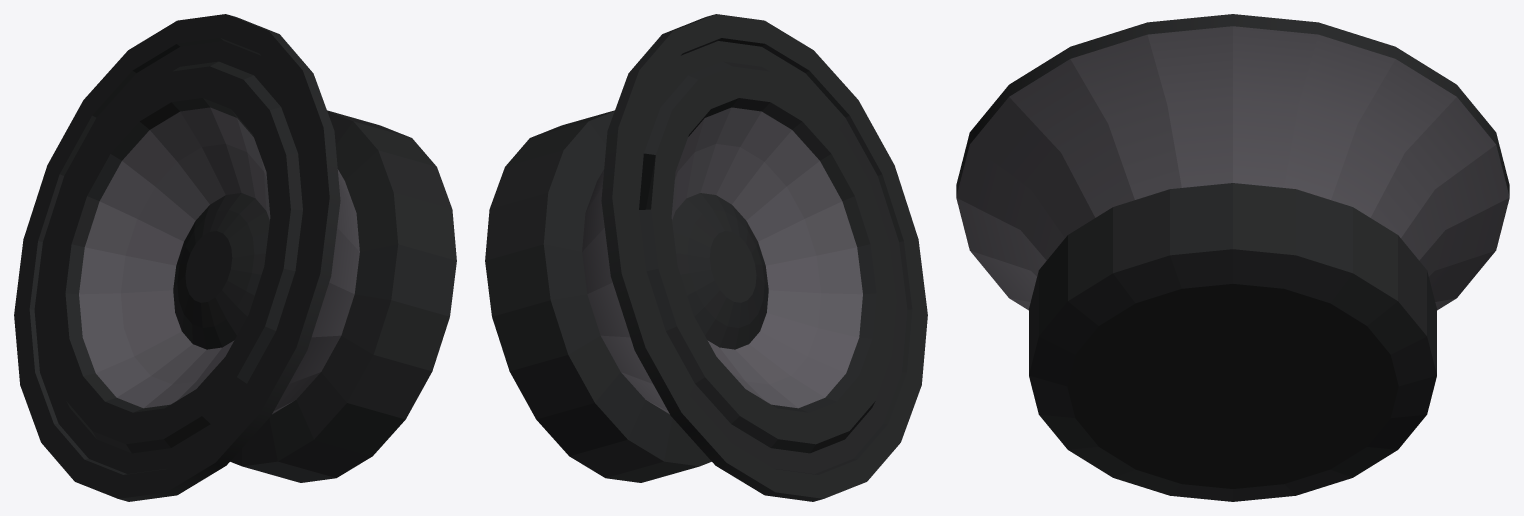
The model's file is Audio component.fbx.
3 views of the same model, side by side, from view 1: azimuth 30°, elevation 25°; view 2: azimuth 150°, elevation 25°; view 3: azimuth 270°, elevation 25° (orthographic). The views are drawn at different scales.
Visible parts, largest first — view 1: audio_component; view 2: audio_component; view 3: audio_component.
Boxes of the visible parts, <box> form: audio_component: <box>14,14,456,501</box>; audio_component: <box>485,14,927,501</box>; audio_component: <box>956,14,1509,501</box>.
Bounding box in the file's own units: 0.515 × 0.6408 × 0.6588.
